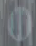Two way: (6, 4, 35, 44)
